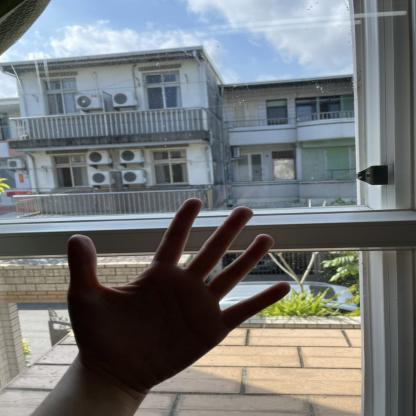bare_hand: (52, 188, 300, 386)
